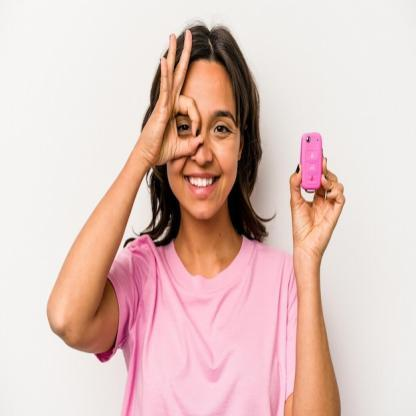ok: (145, 26, 204, 168)
